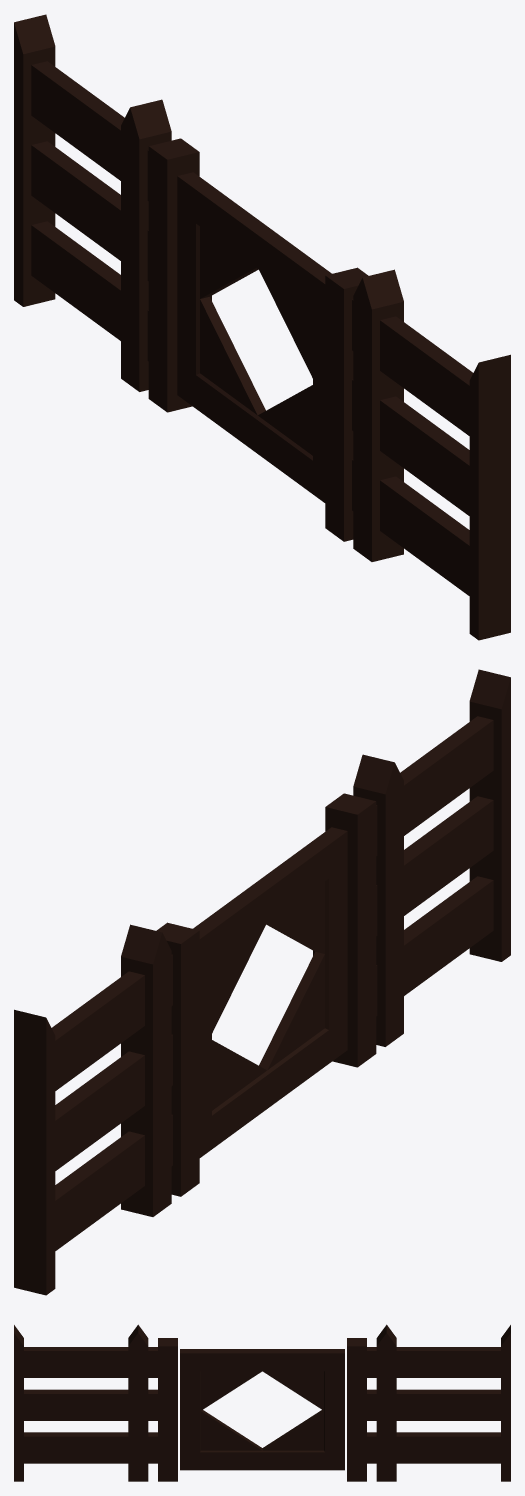
Rendered from h-004_fence_door_F.FBX.
3 views of the same model, one above another, from view 1: azimuth 30°, elevation 25°; view 2: azimuth 150°, elevation 25°; view 3: azimuth 270°, elevation 25° (orthographic). The views are drawn at different scales.
Parts seen in each view (by area): view 1: h-004_fence_5.0_02, h-004_fence_5.0_door; view 2: h-004_fence_5.0_02, h-004_fence_5.0_door; view 3: h-004_fence_5.0_02, h-004_fence_5.0_door.
Boxes of the visible parts, x1,y1,x2,y2 form: h-004_fence_5.0_02: (14,14,510,640); h-004_fence_5.0_door: (177,172,331,502); h-004_fence_5.0_02: (14,669,510,1295); h-004_fence_5.0_door: (193,827,347,1157); h-004_fence_5.0_02: (14,1324,510,1481); h-004_fence_5.0_door: (180,1349,344,1470).
Bounding box in the file's own units: 2 × 16.5 × 50.
